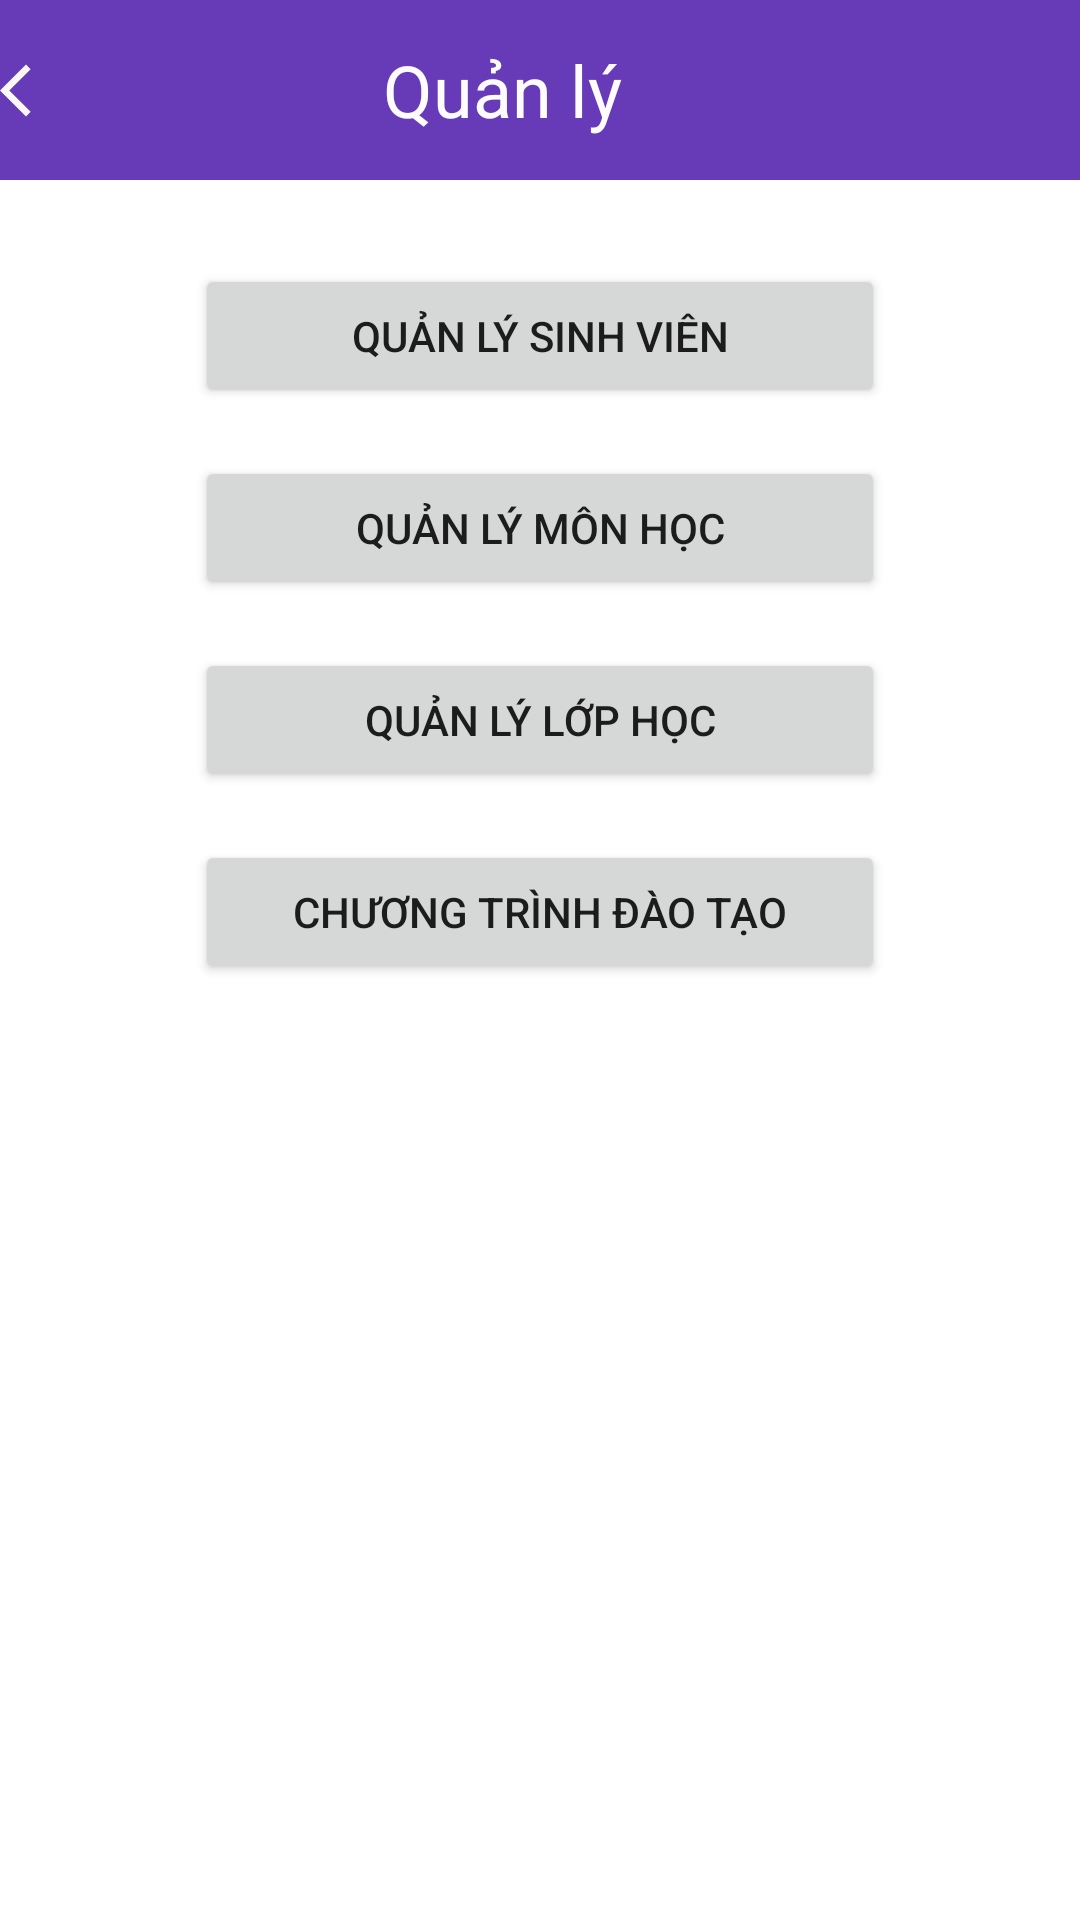

Where to tap for icons on this 1080px×1920px app screen, as (x=x, y=y):
arrow back: (x=15, y=90)
